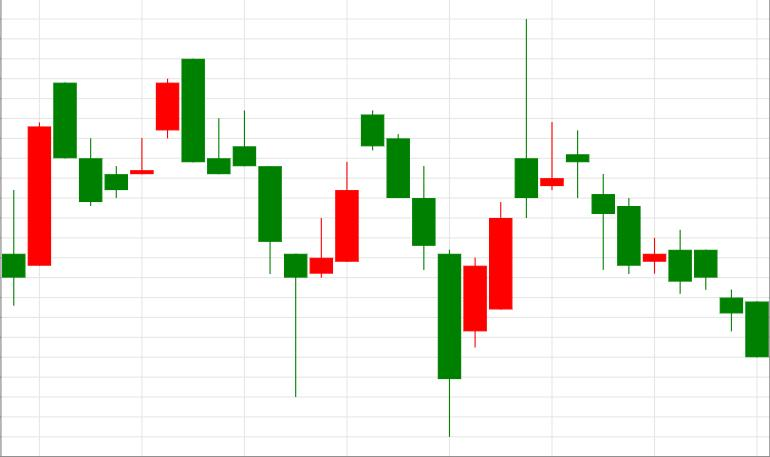bearish_engulfing_fall: (79, 58, 204, 206)
hammer_rise: (182, 58, 308, 397)
shooting_star_fall: (438, 19, 537, 437)
